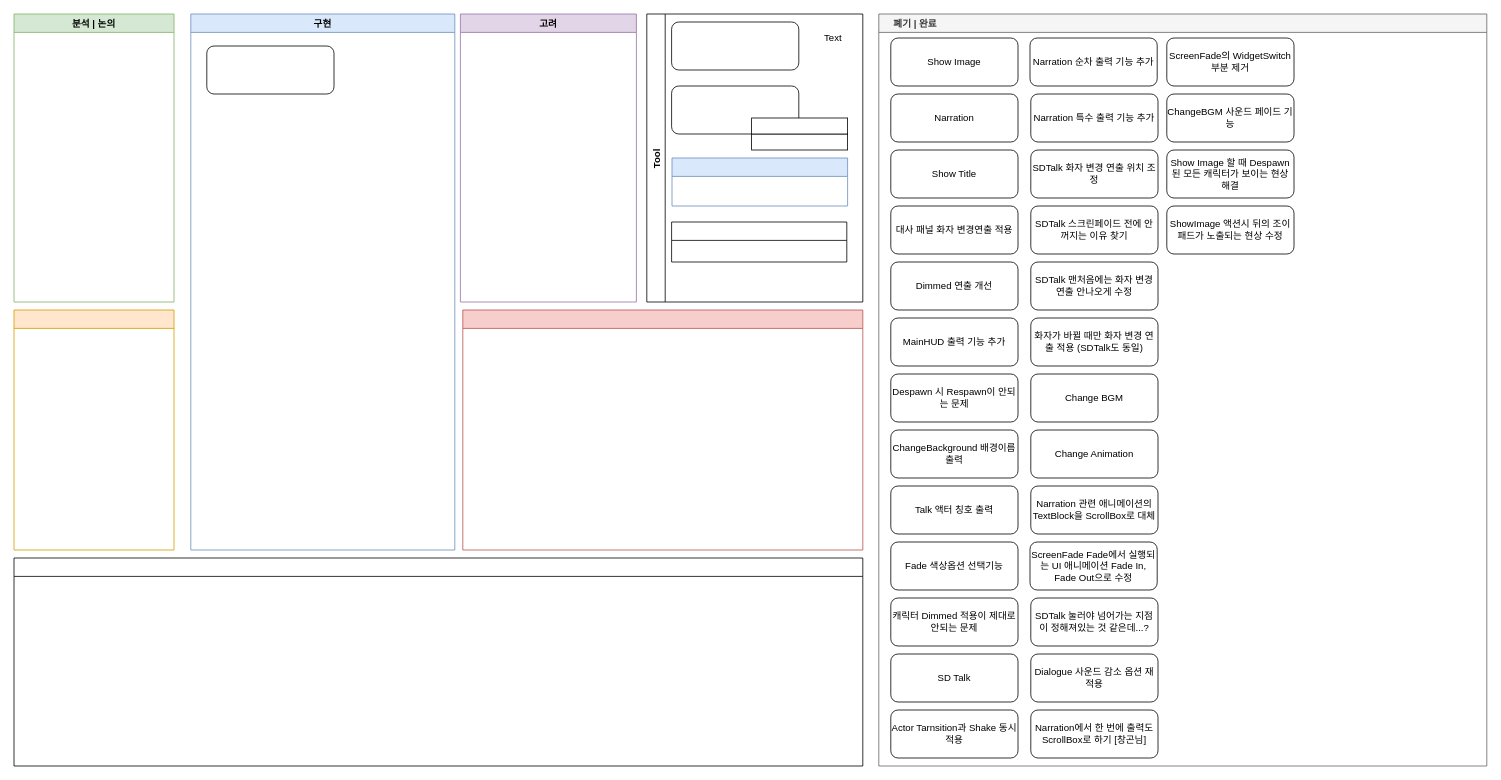
Some shapes in this 1501 by 780 pixel diagram are drawn without their labels. Each missing label, with the centre of its shape:
"My Commit" belongs at point (438, 661).
"SpawnActor Offset Z값 오류 수정" belongs at point (270, 69).
"대기 | 요청" belongs at point (93, 429).
"에러 | 수정" belongs at point (662, 429).
